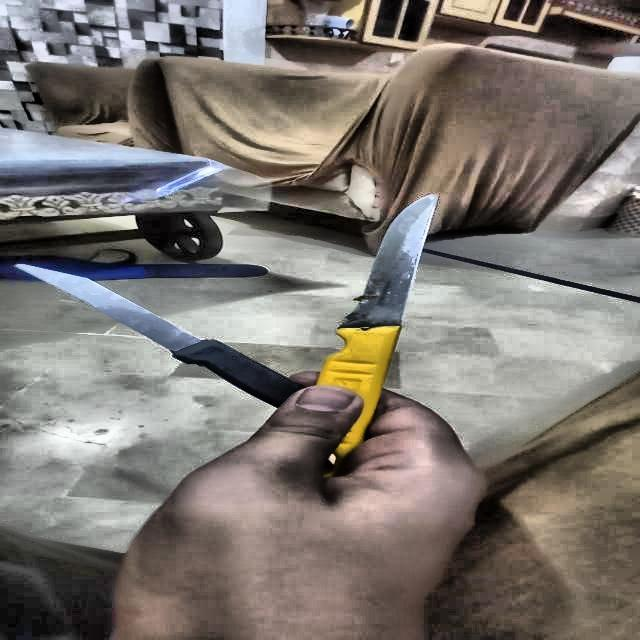knife: (15, 262, 308, 407), (315, 195, 437, 478)
